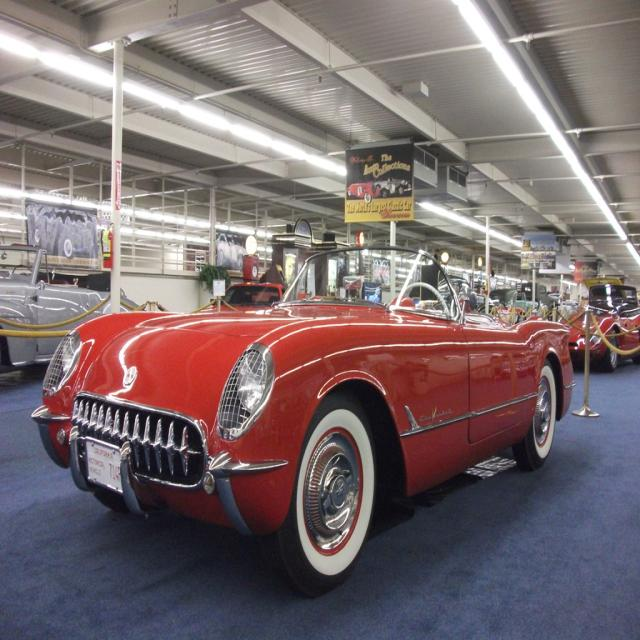car: (25, 242, 576, 590)
